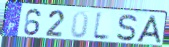0: (70, 11, 90, 40)
2: (44, 9, 67, 38)
6: (23, 7, 43, 37)
A: (135, 15, 163, 45)
L: (92, 10, 112, 43)
S: (115, 14, 138, 42)
